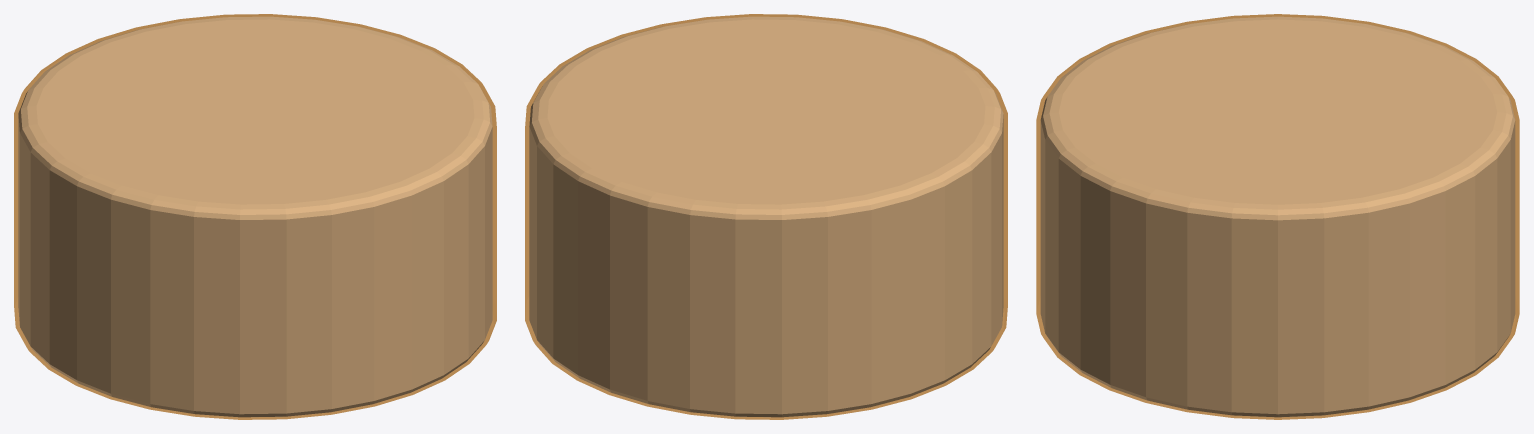
File: circulo baunilha.glb
3 views of the same model, side by side, from view 1: azimuth 30°, elevation 25°; view 2: azimuth 150°, elevation 25°; view 3: azimuth 270°, elevation 25° (orthographic).
Parts seen in each view (by area): view 1: Cylinder.013; view 2: Cylinder.013; view 3: Cylinder.013.
Boxes of the visible parts, x1=… form: Cylinder.013: x1=14, y1=14, x2=496, y2=419; Cylinder.013: x1=525, y1=14, x2=1007, y2=419; Cylinder.013: x1=1036, y1=14, x2=1519, y2=419.
Bounding box in the file's own units: 20.47 × 9.98 × 20.47.
